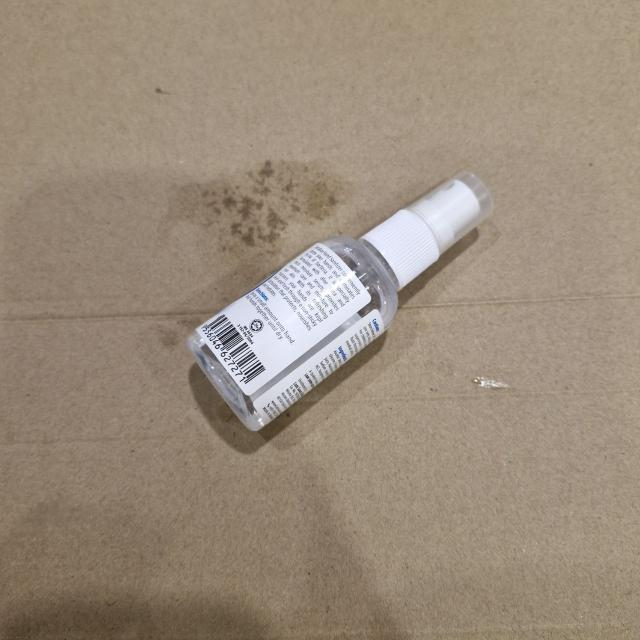plastic: (177, 160, 499, 444)
